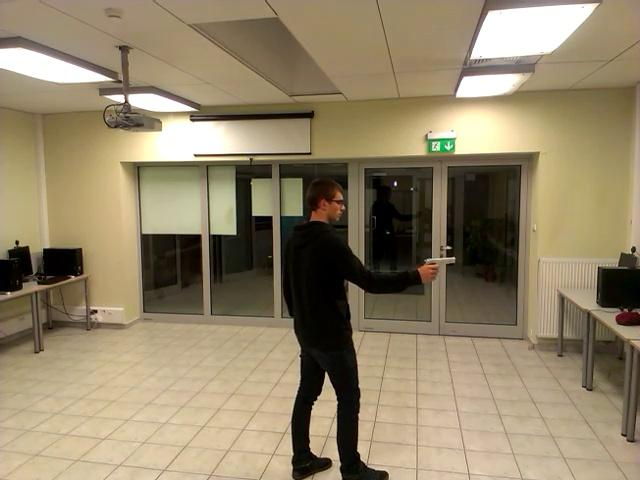gun: (421, 250, 456, 288)
